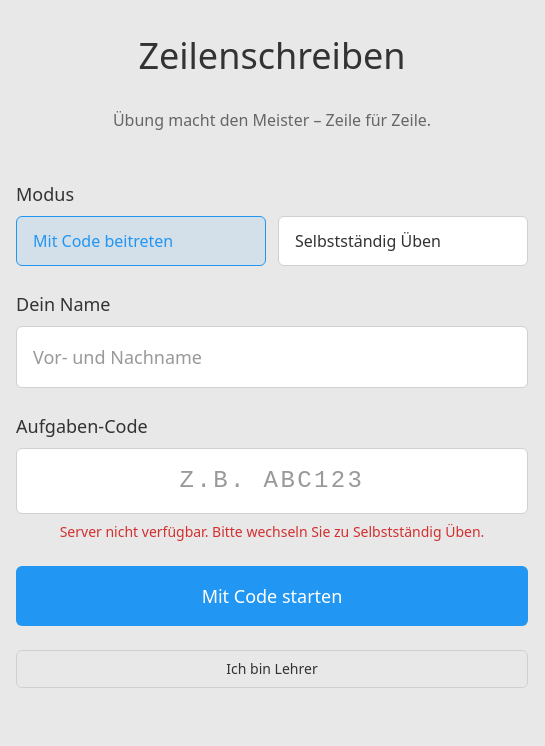
Test case: StudentForm › Backend unavailable › shows error when backend unavailable and code mode attempted
In the field with placeholder "Vor- und Nachname": (272, 357) x1=16 y1=326 x2=528 y2=388, type "Max Mustermann"
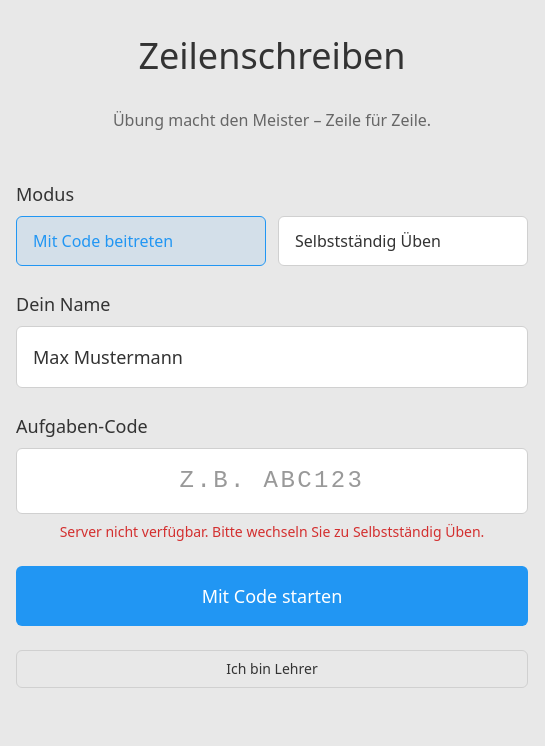
Code input is disabled when !backendAvailable, so trigger submit directly
Click the button "Mit Code starten": click(272, 596) x1=16 y1=566 x2=528 y2=626
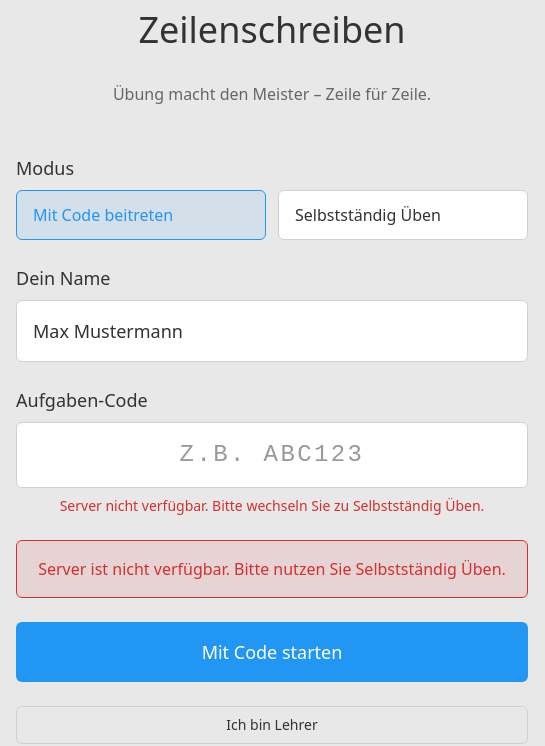
Now the text "Server ist nicht verfügbar. Bitte nutzen Sie Selbstständig Üben." is shown, box x1=16 y1=540 x2=528 y2=598
